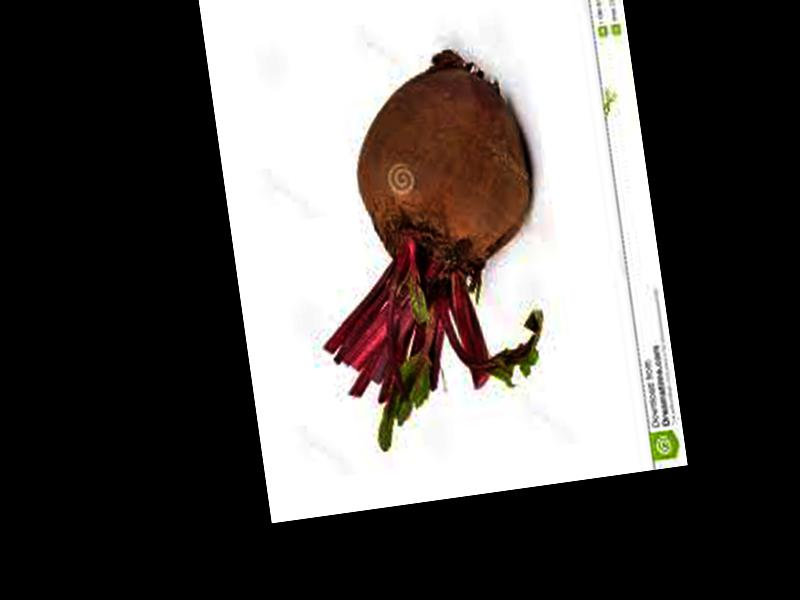Beet: (288, 41, 562, 454)
